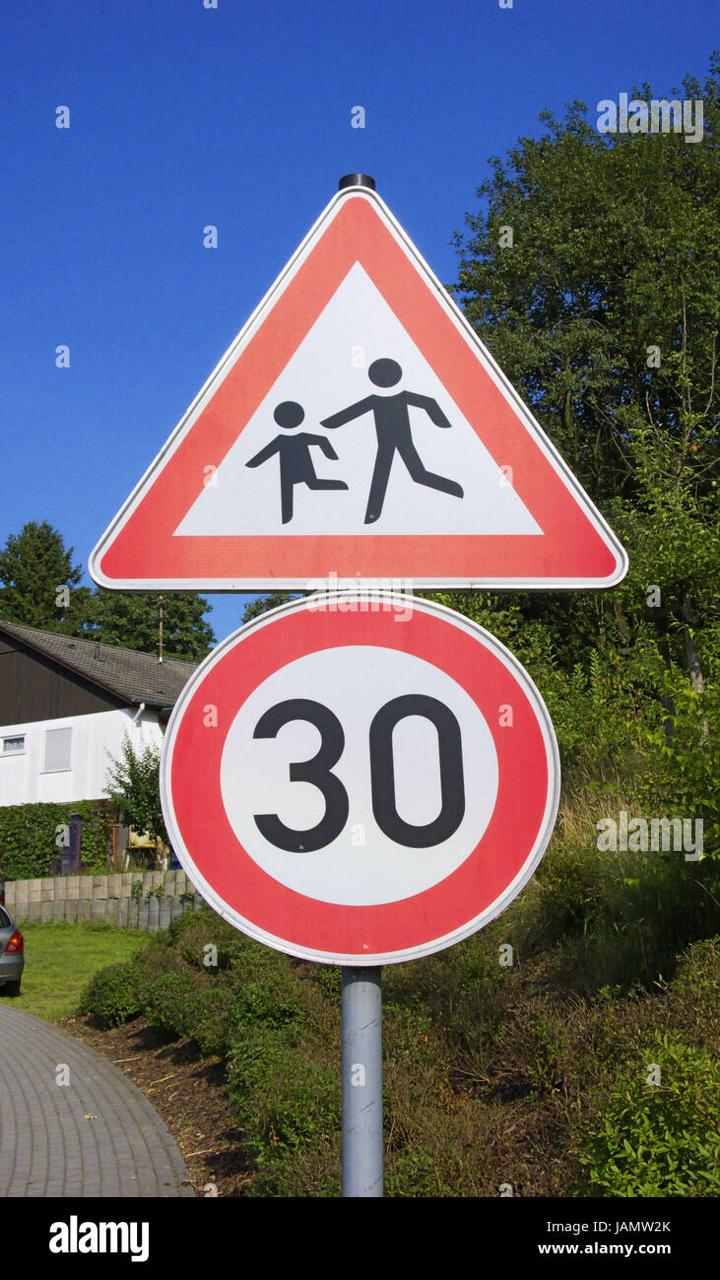Traffic sign: (70, 148, 642, 617), (83, 615, 655, 1084)
